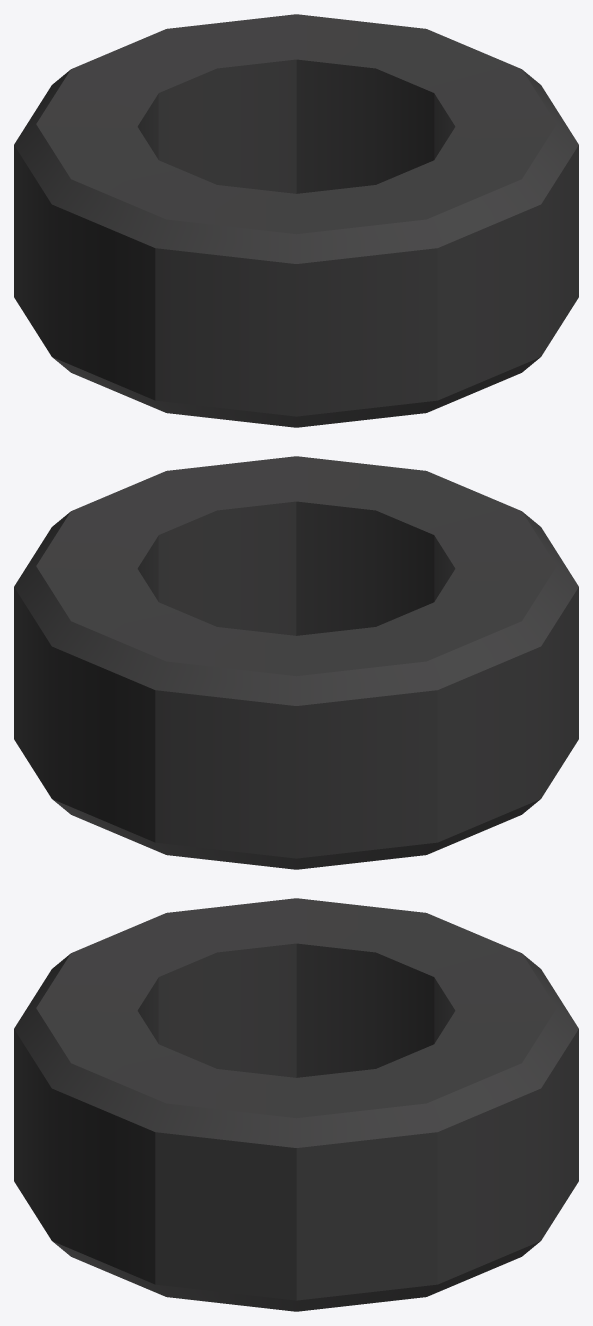
File: Tire.glb
3 views of the same model, one above another, from view 1: azimuth 30°, elevation 25°; view 2: azimuth 150°, elevation 25°; view 3: azimuth 270°, elevation 25° (orthographic).
Parts seen in each view (by area): view 1: Tire; view 2: Tire; view 3: Tire.
Boxes of the visible parts, x1,y1,x2,y2 form: Tire: [14, 14, 578, 427]; Tire: [14, 456, 578, 869]; Tire: [14, 898, 578, 1311].
Size of the model in its own units: 0.8739 by 0.3304 by 0.8739.
1 material, 1 textured.
